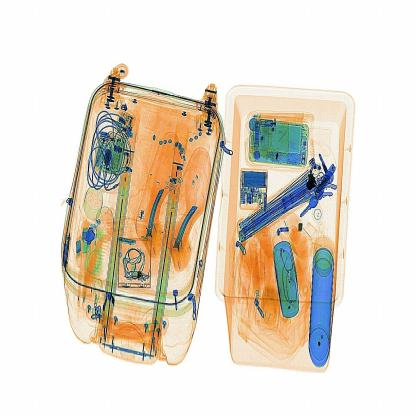wrench: (291, 213, 309, 242)
